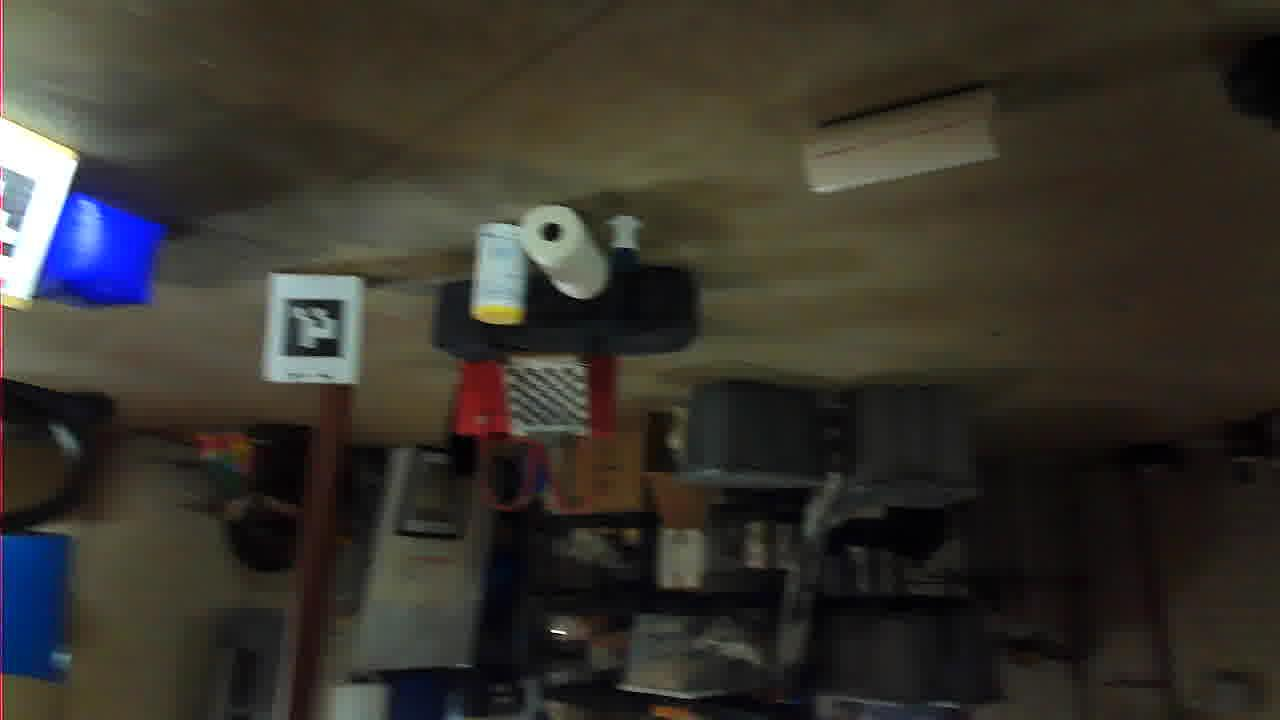coral: (281, 526, 477, 633)
